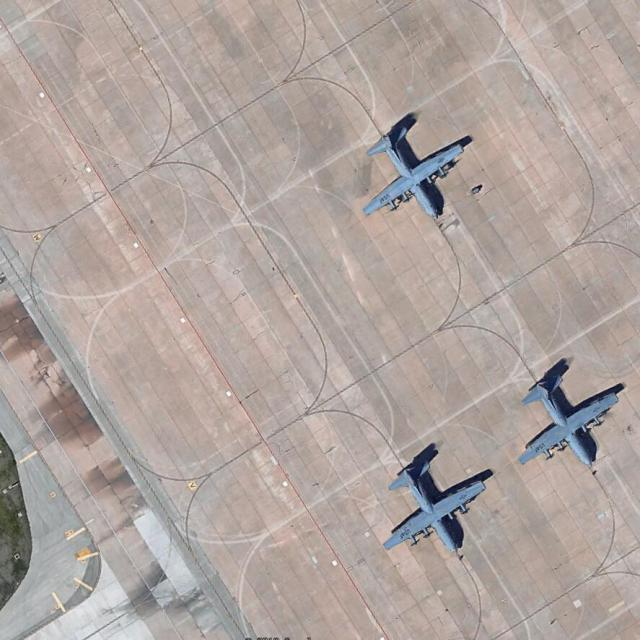fighter jet: (367, 446, 494, 573), (507, 358, 623, 473), (352, 115, 469, 222)
